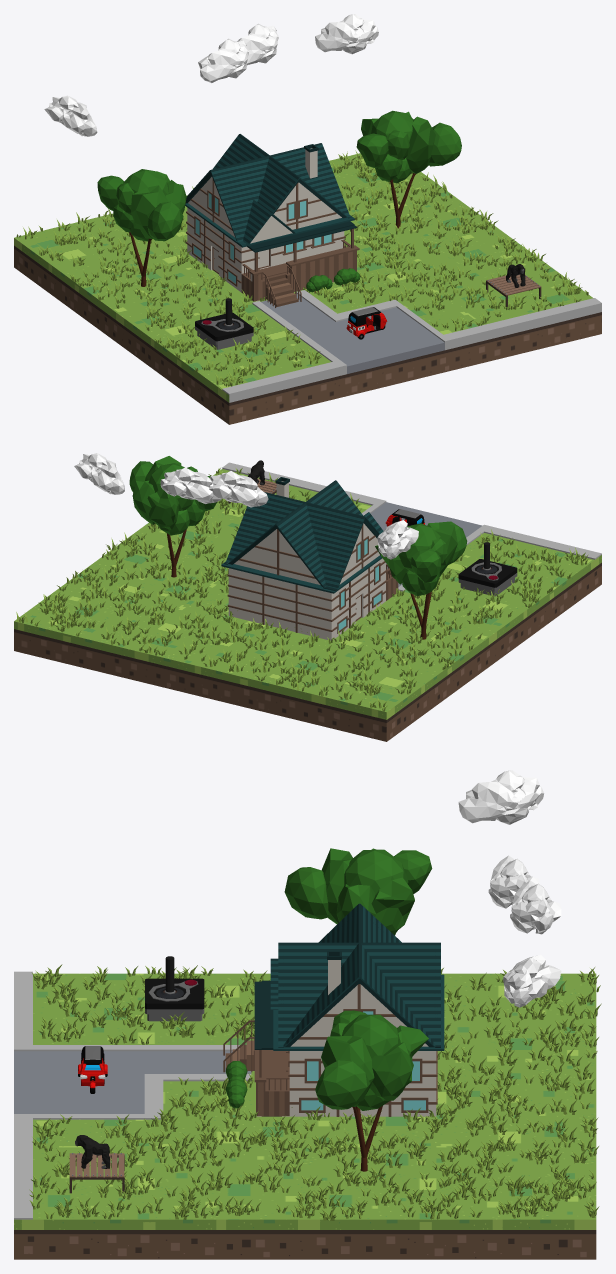
3 renders of one model, top to bottom at view 1: azimuth 30°, elevation 25°; view 2: azimuth 150°, elevation 25°; view 3: azimuth 270°, elevation 25°, orthographic. The views are drawn at different scales.
Visible parts, largest first — view 1: Cube.006, Cube.793, Circle.012_Grass_0.192, Cube.007, tree, tree.001, OBJRANDOM_JOYSTICK, VEHICLES_TUC_TUC, Cube.009; view 2: Cube.006, Cube.793, Circle.012_Grass_0.192, Cube.007, tree.001, tree, OBJRANDOM_JOYSTICK, VEHICLES_TUC_TUC; view 3: Cube.006, Circle.012_Grass_0.192, Cube.793, tree, Cube.007, tree.001, OBJRANDOM_JOYSTICK, Cube.009, VEHICLES_TUC_TUC, ANIMAL_GORILA.
Part boxes in pixels (x1,y1,x2,y2): Cube.006: (14, 153, 601, 424); Cube.793: (185, 134, 359, 307); Circle.012_Grass_0.192: (16, 150, 588, 386); Cube.007: (44, 14, 378, 136); tree: (356, 110, 461, 228); tree.001: (97, 169, 186, 286); OBJRANDOM_JOYSTICK: (195, 298, 253, 349); VEHICLES_TUC_TUC: (346, 307, 387, 339); Cube.009: (486, 274, 541, 306); Cube.006: (14, 462, 601, 741); Cube.793: (221, 477, 398, 640); Circle.012_Grass_0.192: (16, 468, 588, 711); Cube.007: (74, 453, 418, 559); tree.001: (375, 521, 467, 639); tree: (129, 456, 216, 577); OBJRANDOM_JOYSTICK: (458, 542, 517, 596); VEHICLES_TUC_TUC: (385, 509, 424, 526); Cube.006: (14, 971, 596, 1259); Circle.012_Grass_0.192: (29, 964, 601, 1220); Cube.793: (223, 903, 444, 1116); tree: (315, 1010, 428, 1171); Cube.007: (458, 770, 561, 1007); tree.001: (284, 848, 432, 935); OBJRANDOM_JOYSTICK: (145, 956, 204, 1021); Cube.009: (69, 1153, 124, 1193); VEHICLES_TUC_TUC: (78, 1046, 107, 1093); ANIMAL_GORILA: (75, 1135, 109, 1168).
Bounding box in the file's own units: 4071 × 2176 × 4040.
38 materials, 4 textured.
